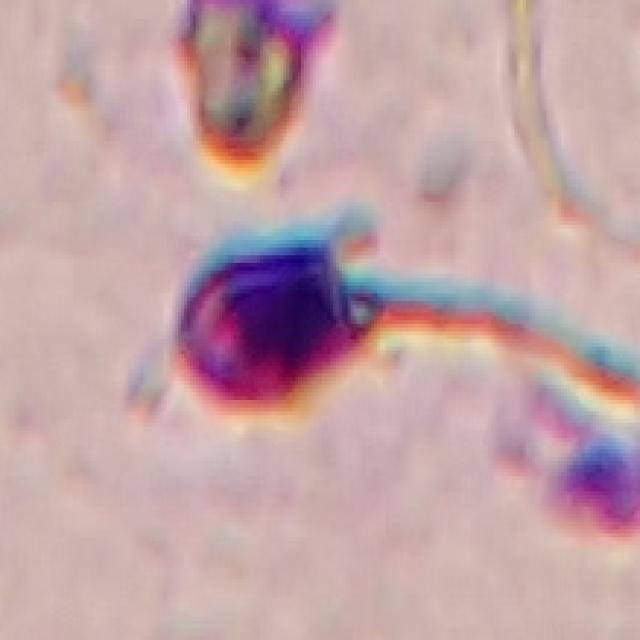normal sperm: (175, 238, 448, 416)
